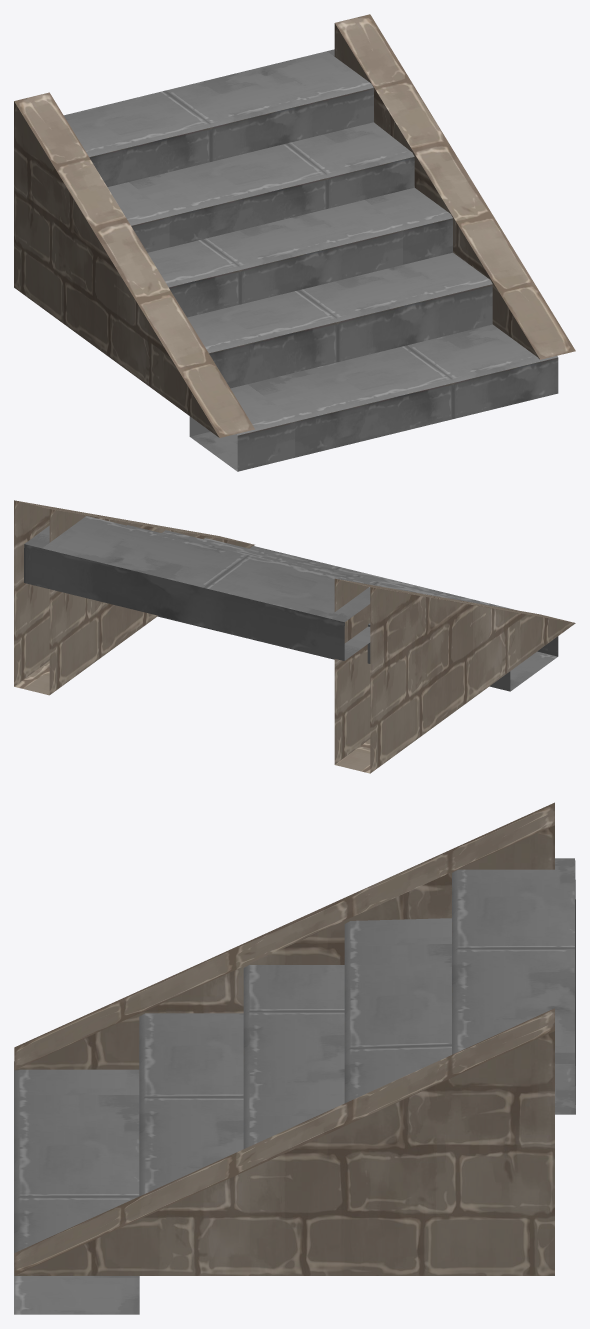
The model's file is Stairs_Exterior_Straight.gltf.
3 renders of one model, top to bottom at view 1: azimuth 30°, elevation 25°; view 2: azimuth 150°, elevation 25°; view 3: azimuth 270°, elevation 25°, orthographic. The views are drawn at different scales.
Visible parts, largest first — view 1: Stairs_Exterior_Straight; view 2: Stairs_Exterior_Straight; view 3: Stairs_Exterior_Straight.
Boxes of the visible parts, x1,y1,x2,y2 form: Stairs_Exterior_Straight: (14, 14, 575, 471); Stairs_Exterior_Straight: (14, 500, 575, 773); Stairs_Exterior_Straight: (14, 802, 575, 1314).
Bounding box in the file's own units: 2 × 1.2 × 2.08.
2 materials, 2 textured.
